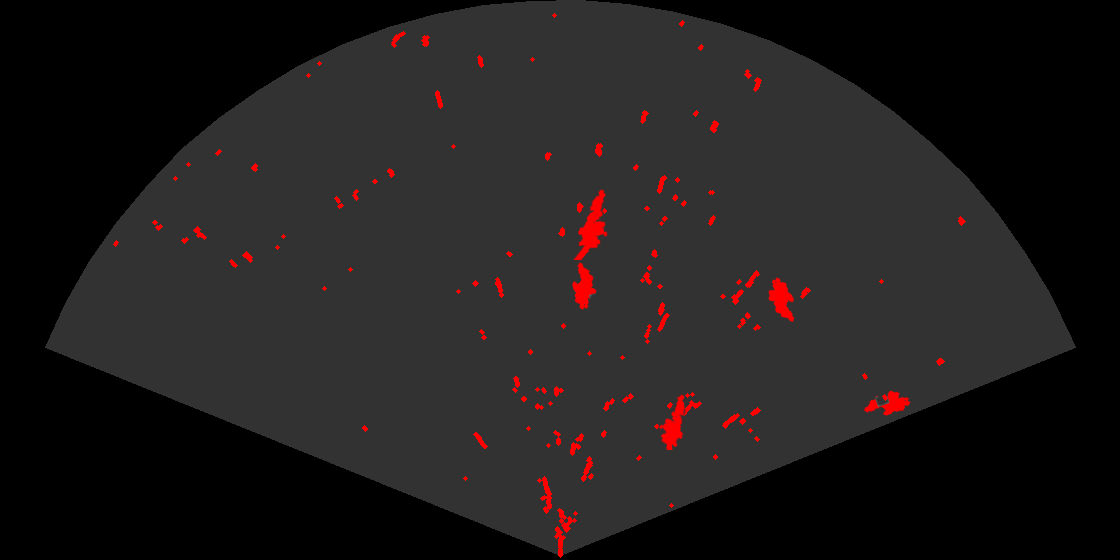AUV: (767, 276, 796, 324), (863, 389, 912, 417), (571, 261, 598, 311)
frogman: (572, 188, 609, 260), (657, 392, 686, 450)
